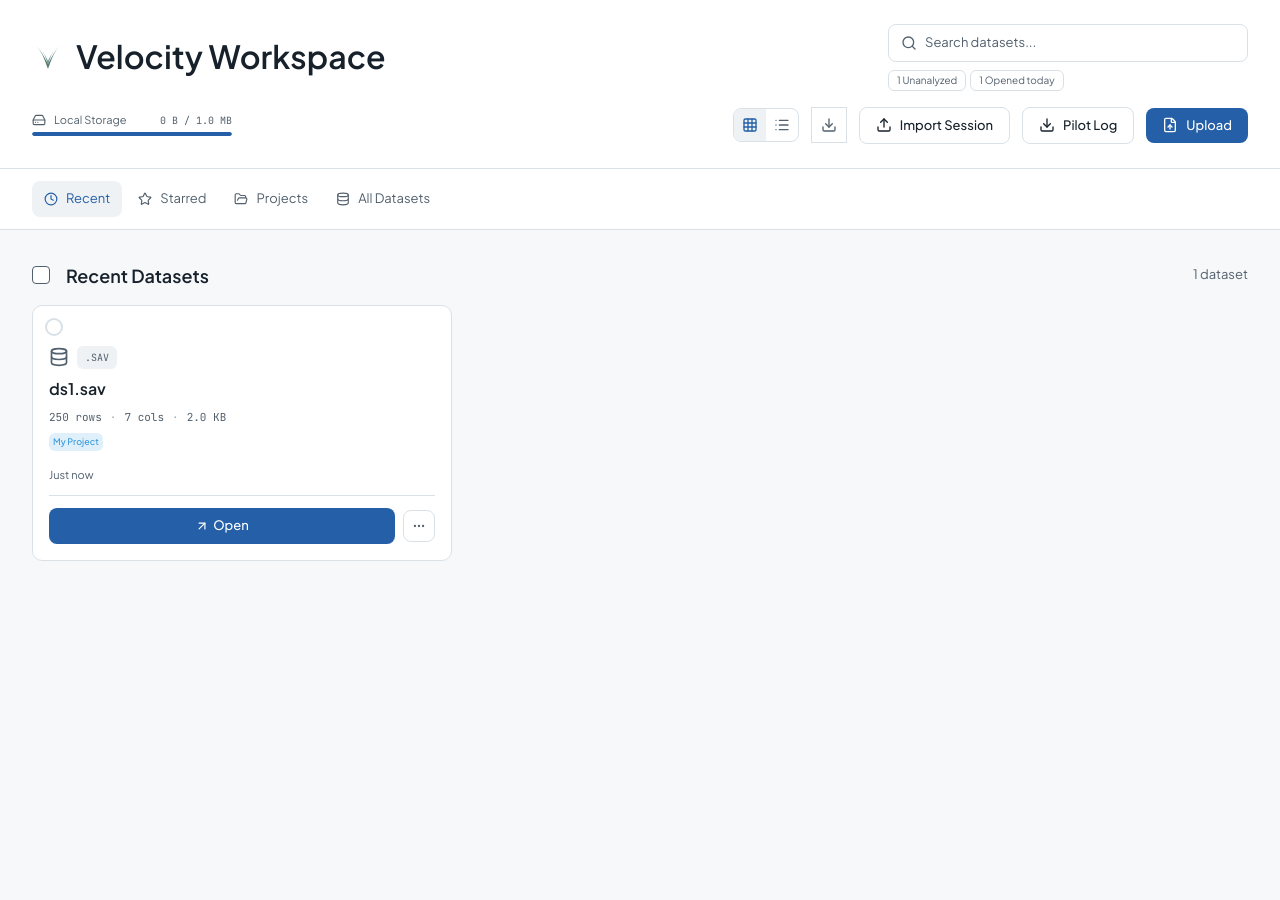
Test case: WorkspaceView › shows projects section with cards when projects filter selected and projects exist
This screenshot has width=1280, height=900.
Click the button "Projects". click: (271, 199)
box: [222,181,320,216]
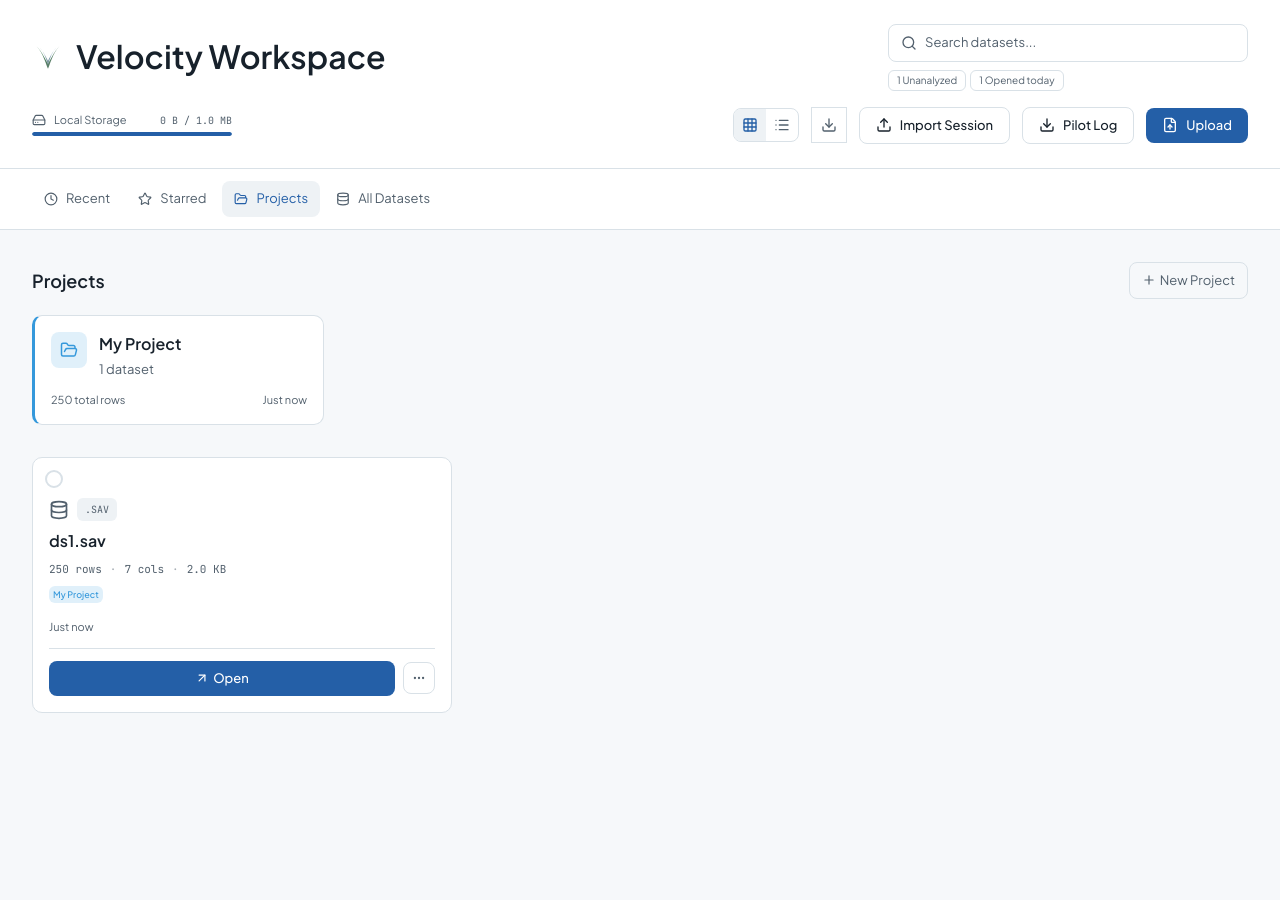
Check: the heading "My Project" is shown, box [99,332,181,356]
